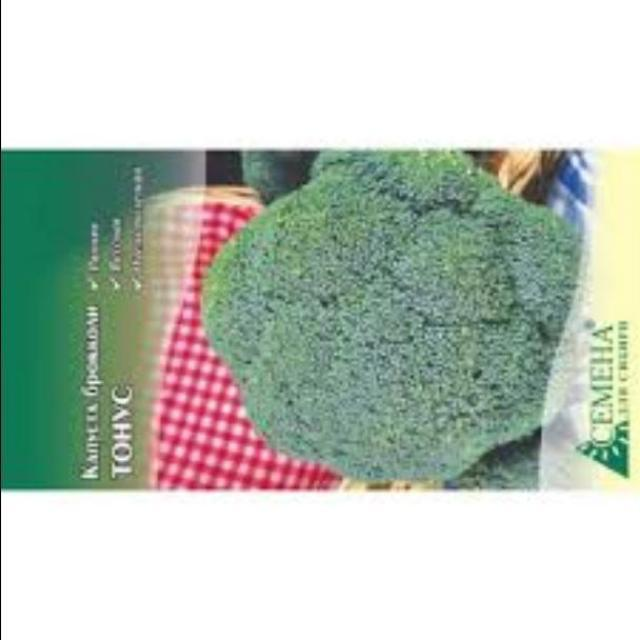Broccoli: (200, 140, 582, 494)
